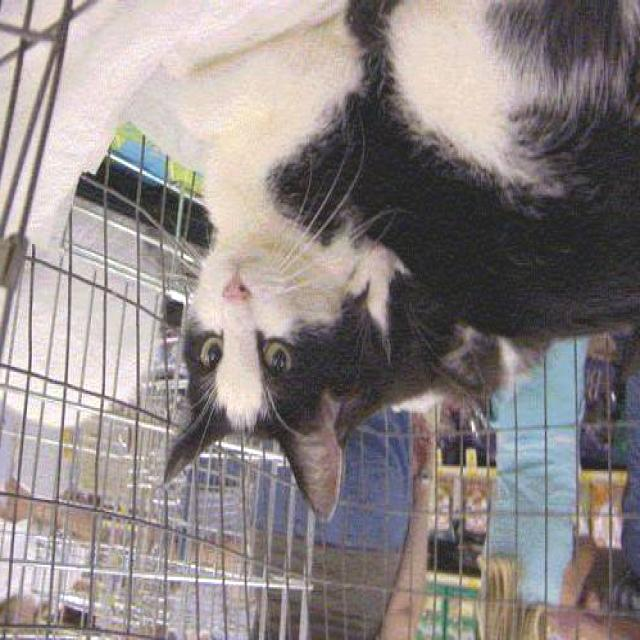Kucing: (11, 0, 640, 564)
